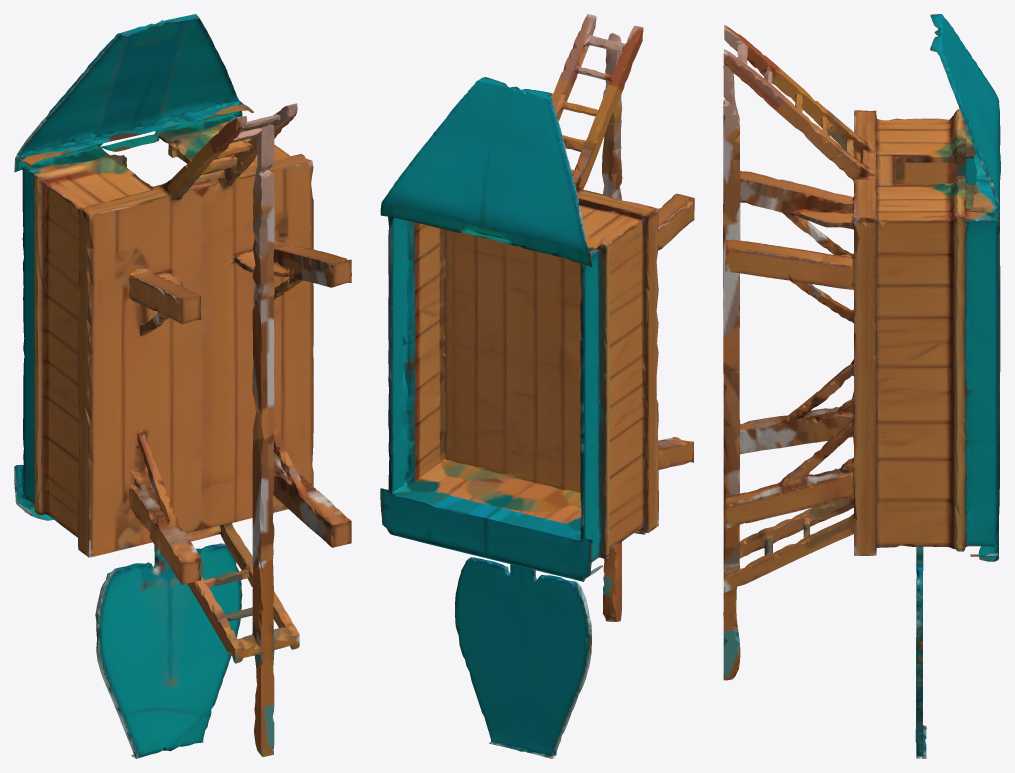
Rendered from Watchtower.glb.
3 views of the same model, side by side, from view 1: azimuth 30°, elevation 25°; view 2: azimuth 150°, elevation 25°; view 3: azimuth 270°, elevation 25° (orthographic). The views are drawn at different scales.
Parts seen in each view (by area): view 1: Watchtower; view 2: Watchtower; view 3: Watchtower.
Boxes of the visible parts, box(x1,y1,x2,y2) form: Watchtower: box(14, 14, 351, 758); Watchtower: box(380, 14, 694, 758); Watchtower: box(723, 14, 1000, 758).
Size of the model in its own units: 0.6251 by 1.88 by 0.6659.
Materials: 1 (1 with a texture image).
